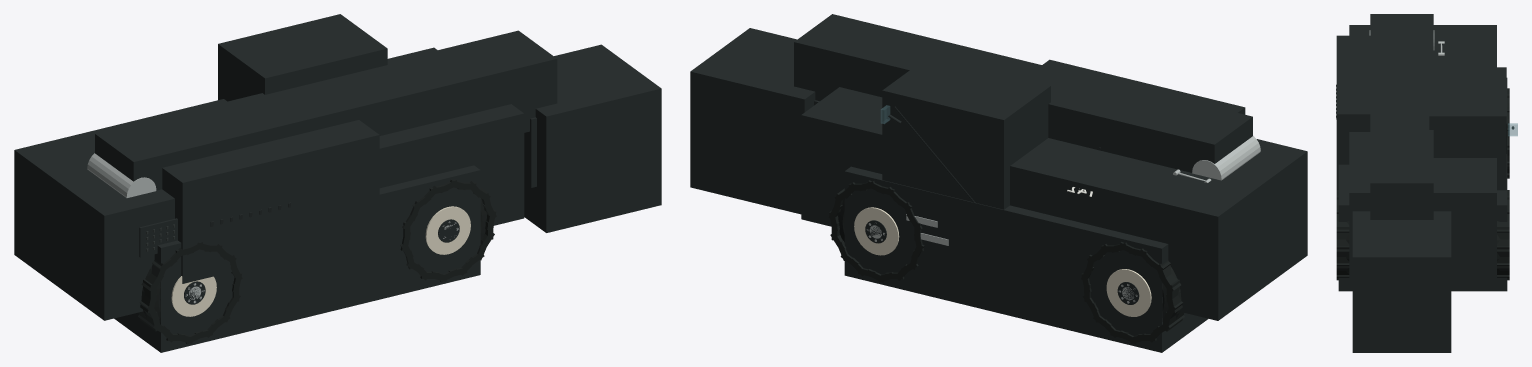
3 renders of one model, left to right at view 1: azimuth 30°, elevation 25°; view 2: azimuth 150°, elevation 25°; view 3: azimuth 270°, elevation 25°, orthographic. The views are drawn at different scales.
Parts seen in each view (by area): view 1: Chassis_Hit, Boom_Hit, Hydraulics_Hit, Steering_Hit, Carriage_Hit, Cab_Hit, WheelRimOuter_FR, BoomPivotPin, WheelRimOuter_RR, RadiatorGrille, QuickCoupler; view 2: Chassis_Hit, Steering_Hit, Boom_Hit, Cab_Hit, Carriage_Hit, Hydraulics_Hit, WheelRimOuter_FL, WheelRimOuter_RL, BoomPivotPin; view 3: Carriage_Hit, Boom_Hit, Chassis_Hit, Cab_Hit, Hydraulics_Hit, Steering_Hit.
Boxes of the visible parts, <box> form: Chassis_Hit: <box>14,47,524,320</box>; Boom_Hit: <box>95,30,557,190</box>; Hydraulics_Hit: <box>162,120,379,283</box>; Steering_Hit: <box>114,165,480,352</box>; Carriage_Hit: <box>524,44,661,232</box>; Cab_Hit: <box>218,14,387,101</box>; WheelRimOuter_FR: <box>425,206,470,254</box>; BoomPivotPin: <box>87,153,156,197</box>; WheelRimOuter_RR: <box>171,276,216,316</box>; RadiatorGrille: <box>139,218,177,257</box>; QuickCoupler: <box>524,117,536,187</box>; Chassis_Hit: <box>801,87,1307,320</box>; Steering_Hit: <box>844,166,1208,352</box>; Boom_Hit: <box>794,14,1252,172</box>; Cab_Hit: <box>882,56,1050,209</box>; Carriage_Hit: <box>690,28,815,214</box>; Hydraulics_Hit: <box>1042,59,1245,114</box>; WheelRimOuter_FL: <box>854,207,899,255</box>; WheelRimOuter_RL: <box>1106,269,1151,316</box>; BoomPivotPin: <box>1192,135,1260,180</box>; Carriage_Hit: <box>1352,211,1451,352</box>; Boom_Hit: <box>1370,14,1433,219</box>; Chassis_Hit: <box>1349,25,1496,278</box>; Cab_Hit: <box>1429,67,1506,190</box>; Hydraulics_Hit: <box>1336,35,1370,189</box>; Steering_Hit: <box>1338,78,1507,291</box>.
Size of the model in its own units: 7.53 by 2.51 by 2.59.
